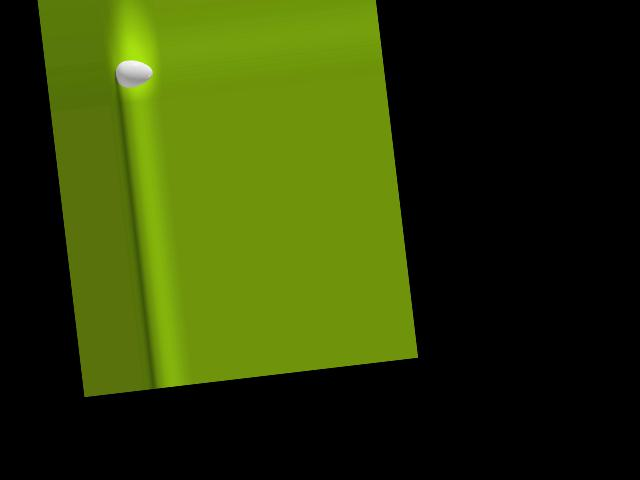egg: (114, 57, 154, 89)
